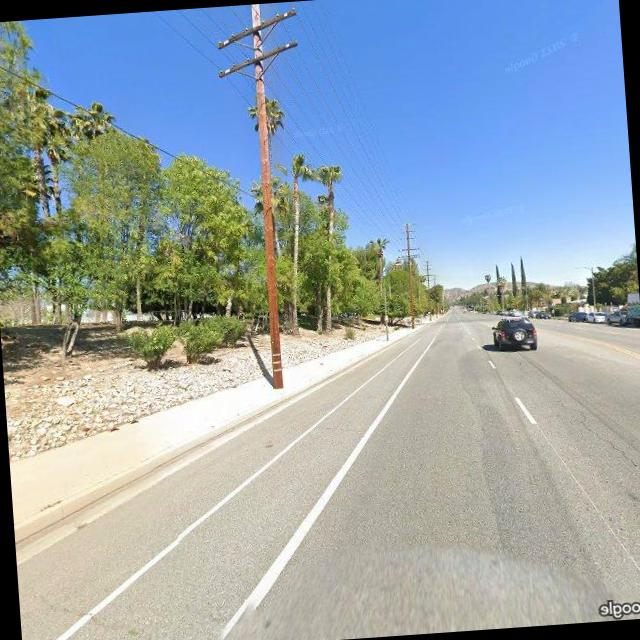pothole: (536, 367, 640, 480)
